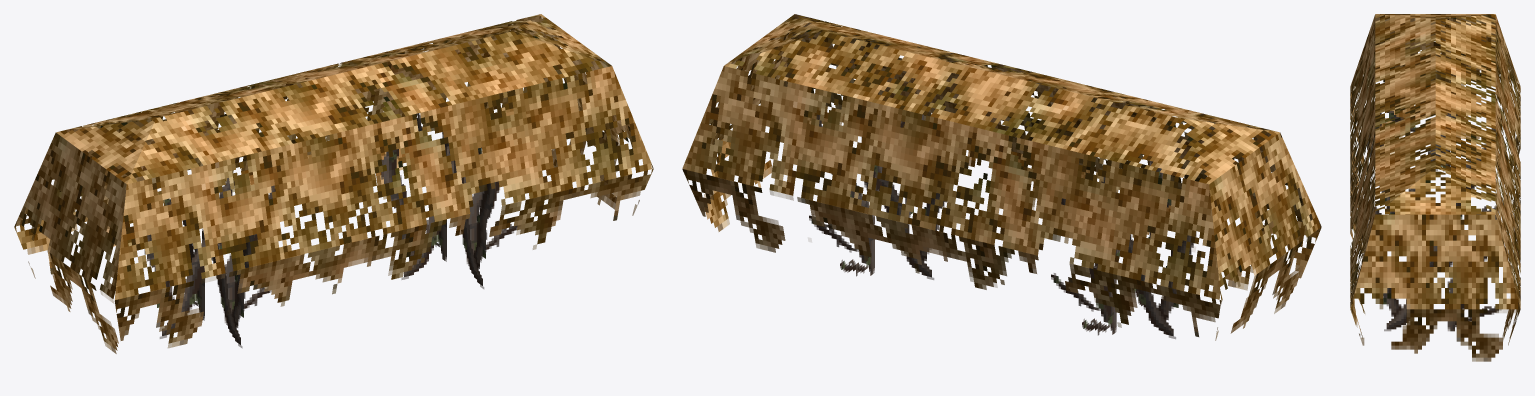
Rendered from bush_long_single_roots_autumn.glb.
3 views of the same model, side by side, from view 1: azimuth 30°, elevation 25°; view 2: azimuth 150°, elevation 25°; view 3: azimuth 270°, elevation 25° (orthographic). The views are drawn at different scales.
Visible parts, largest first — view 1: bush_long_single_roots_autumn; view 2: bush_long_single_roots_autumn; view 3: bush_long_single_roots_autumn.
Boxes of the visible parts, bbox=[...] form: bush_long_single_roots_autumn: bbox=[14, 14, 653, 353]; bush_long_single_roots_autumn: bbox=[682, 14, 1321, 340]; bush_long_single_roots_autumn: bbox=[1350, 14, 1520, 361].
Size of the model in its own units: 2.23 by 0.8765 by 0.7191.
Materials: 2 (2 with a texture image).
